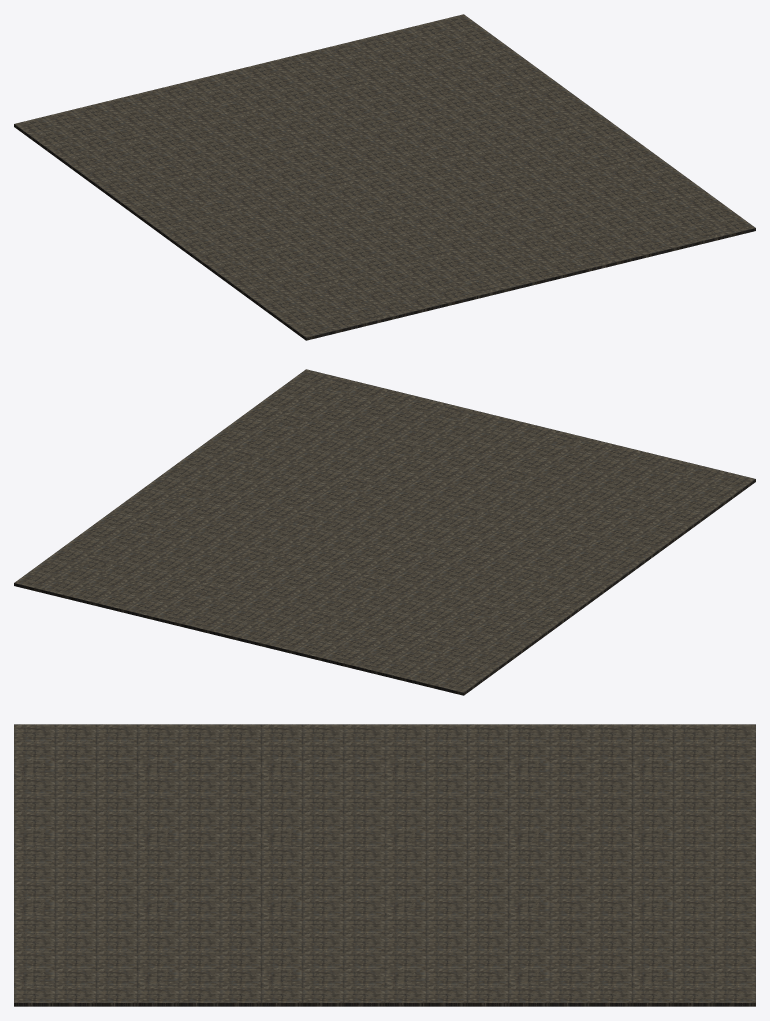
File: FloorChinaBigger.fbx
3 views of the same model, one above another, from view 1: azimuth 30°, elevation 25°; view 2: azimuth 150°, elevation 25°; view 3: azimuth 270°, elevation 25° (orthographic). The views are drawn at different scales.
Visible parts, largest first — view 1: Plane.004; view 2: Plane.004; view 3: Plane.004.
Part boxes in pixels (x1,y1,x2,y2): Plane.004: (14, 14, 755, 340); Plane.004: (14, 369, 755, 695); Plane.004: (14, 724, 755, 1006).
Size of the model in its own units: 3200 by 20 by 3600.
